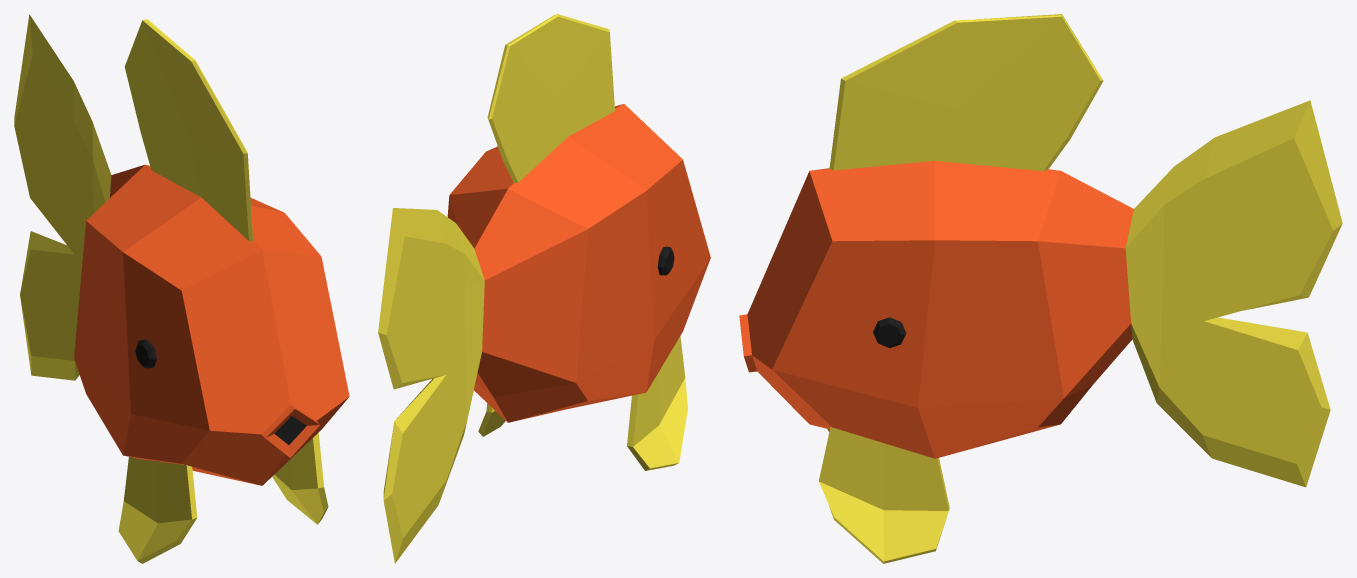
The model's file is Goldfish_01.gltf.
The picture shows the model from 3 angles, left to right: view 1: azimuth 30°, elevation 25°; view 2: azimuth 150°, elevation 25°; view 3: azimuth 270°, elevation 25°; orthographic projection. The views are drawn at different scales.
Parts seen in each view (by area): view 1: node-0; view 2: node-0; view 3: node-0.
Boxes of the visible parts, <box> form: node-0: <box>14,14,349,563</box>; node-0: <box>378,14,710,563</box>; node-0: <box>739,14,1342,563</box>.
Size of the model in its own units: 4.73 by 11.42 by 12.45.
